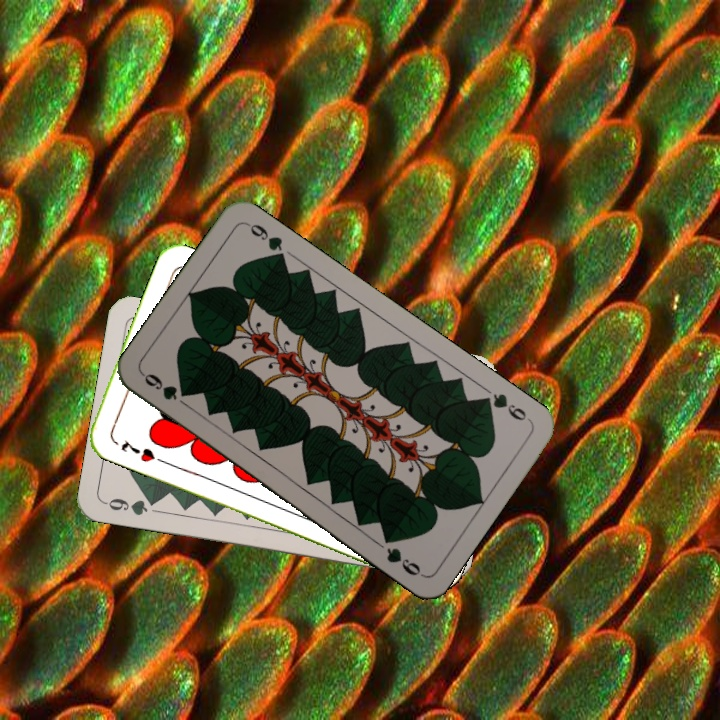G9: (138, 369, 190, 409), (476, 389, 533, 424), (101, 494, 161, 518)
H7: (117, 436, 158, 465)
